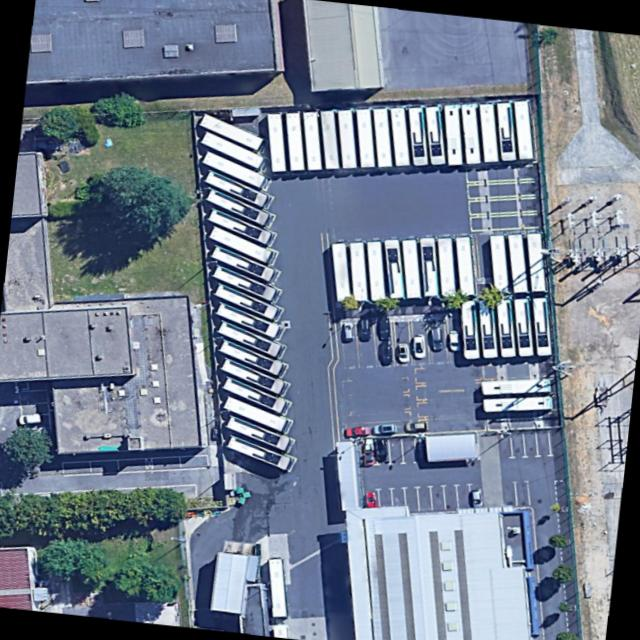large-vehicle: (216, 317, 285, 357), (198, 110, 265, 151), (217, 337, 287, 376), (204, 186, 272, 226), (207, 223, 275, 263), (201, 149, 270, 188), (206, 206, 275, 245), (221, 374, 290, 413), (225, 432, 295, 470), (209, 242, 277, 281), (213, 281, 281, 320), (220, 355, 288, 394), (199, 129, 265, 169), (224, 413, 293, 451), (203, 168, 270, 207), (212, 262, 279, 301), (214, 300, 282, 338), (223, 394, 291, 432), (425, 103, 447, 164), (389, 105, 411, 165), (407, 104, 429, 164), (496, 100, 518, 160), (455, 235, 477, 295), (384, 237, 405, 299), (302, 108, 323, 169), (461, 102, 482, 163), (479, 101, 500, 162), (285, 109, 306, 169), (331, 241, 352, 301), (268, 556, 289, 616), (526, 231, 547, 291), (489, 233, 510, 293), (401, 238, 422, 298), (419, 236, 439, 298), (355, 107, 376, 166), (266, 110, 286, 171), (444, 103, 464, 164), (514, 98, 534, 159), (366, 239, 386, 300), (513, 297, 534, 355), (373, 106, 393, 166), (507, 232, 527, 292), (496, 299, 517, 356), (320, 108, 340, 167), (337, 108, 357, 167), (460, 300, 480, 358), (478, 299, 498, 357), (531, 296, 551, 354), (350, 240, 369, 300), (437, 236, 456, 296), (482, 395, 553, 411), (481, 377, 551, 393), (273, 623, 290, 637)
small-vehicle: (376, 314, 390, 340), (378, 341, 393, 365), (374, 437, 389, 460), (413, 332, 426, 358), (358, 317, 372, 340), (431, 326, 444, 350), (17, 412, 42, 423), (345, 425, 370, 436), (449, 329, 461, 350), (398, 341, 409, 363), (343, 319, 355, 339), (471, 486, 483, 506), (404, 420, 428, 430), (374, 423, 396, 432), (366, 490, 376, 509)
